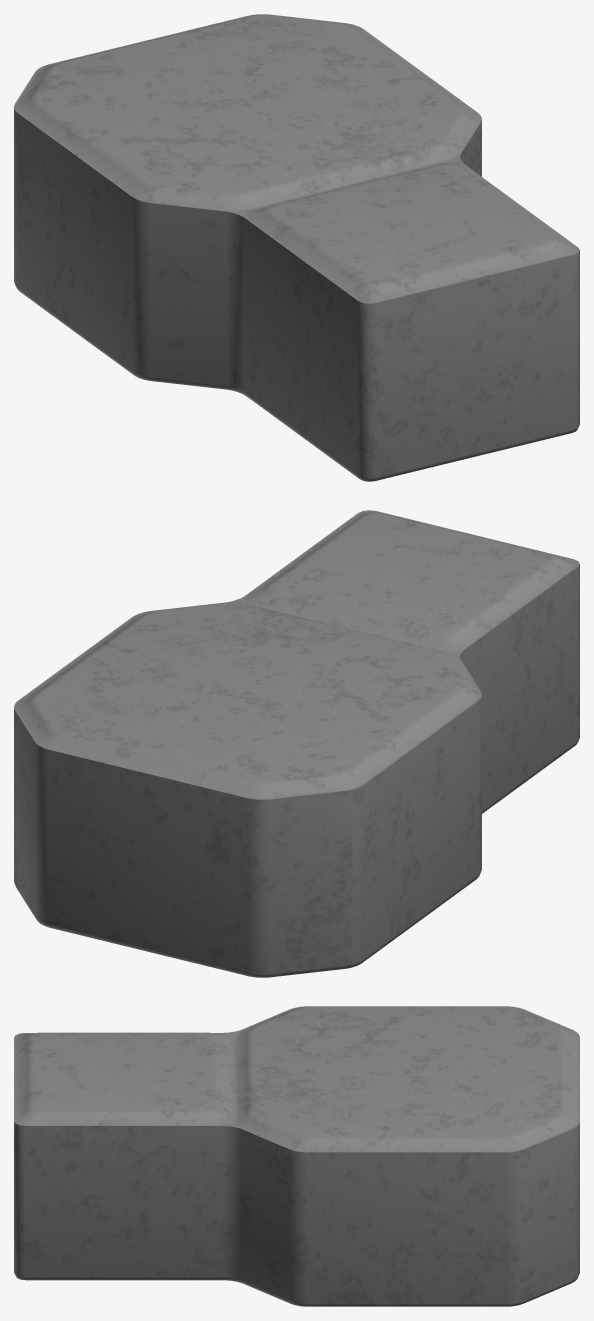
Rendered from banjo-grey.glb.
3 renders of one model, top to bottom at view 1: azimuth 30°, elevation 25°; view 2: azimuth 150°, elevation 25°; view 3: azimuth 270°, elevation 25°, orthographic. The views are drawn at different scales.
Visible parts, largest first — view 1: Banjo.010; view 2: Banjo.010; view 3: Banjo.010.
Part boxes in pixels (x1,y1,x2,y2): Banjo.010: [14, 14, 579, 481]; Banjo.010: [14, 510, 579, 977]; Banjo.010: [14, 1006, 579, 1306].
Size of the model in its own units: 0.1397 by 0.073 by 0.2286.
1 material, 1 textured.
